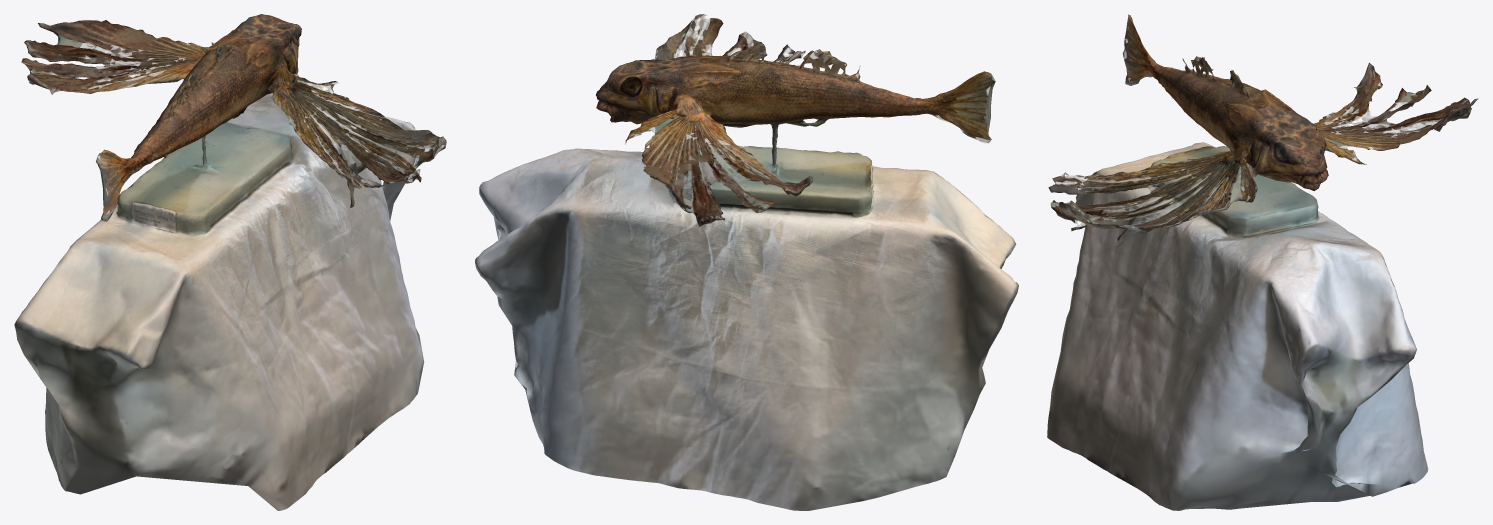
3 renders of one model, left to right at view 1: azimuth 30°, elevation 25°; view 2: azimuth 150°, elevation 25°; view 3: azimuth 270°, elevation 25°, orthographic. The views are drawn at different scales.
Parts seen in each view (by area): view 1: model_aligned; view 2: model_aligned; view 3: model_aligned.
Part boxes in pixels (bbox=[...]): model_aligned: bbox=[14, 14, 446, 510]; model_aligned: bbox=[475, 14, 1018, 510]; model_aligned: bbox=[1047, 14, 1478, 510].
Size of the model in its own units: 1.64 by 1.34 by 1.35.
2 materials, 2 textured.
